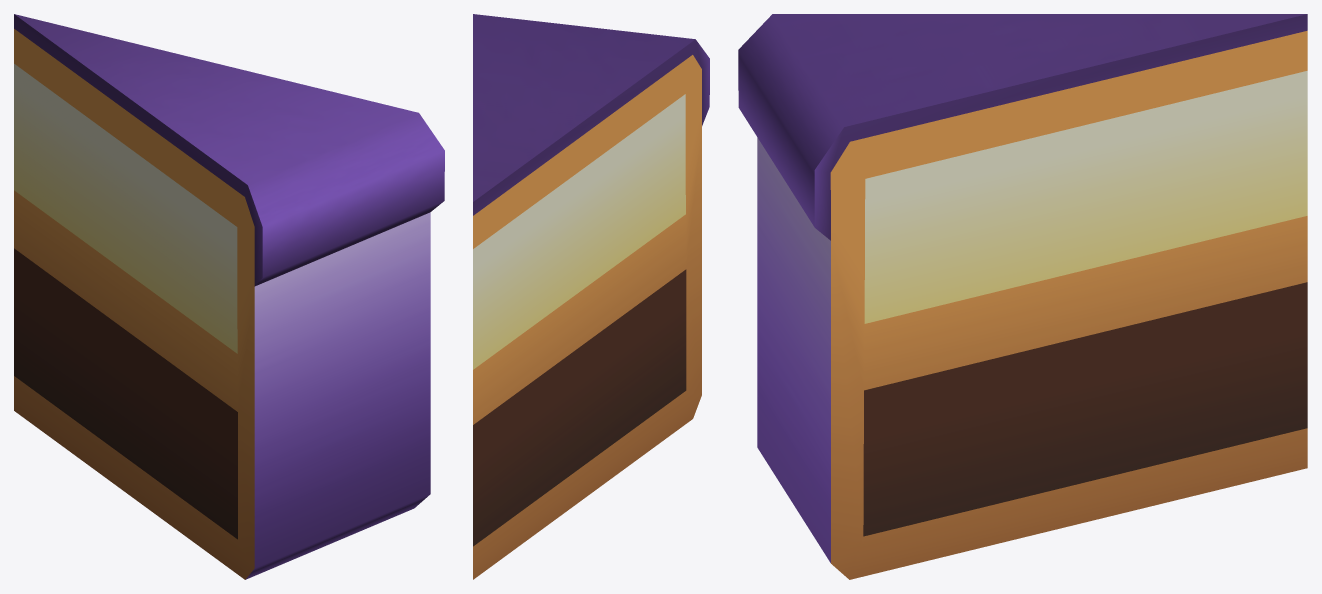
The model's file is m_CakeGlazed01_Slice01.fbx.
3 views of the same model, side by side, from view 1: azimuth 30°, elevation 25°; view 2: azimuth 150°, elevation 25°; view 3: azimuth 270°, elevation 25° (orthographic). The views are drawn at different scales.
Parts seen in each view (by area): view 1: m_CakeGlazed06_Slice01; view 2: m_CakeGlazed06_Slice01; view 3: m_CakeGlazed06_Slice01.
Boxes of the visible parts, x1,y1,x2,y2 form: m_CakeGlazed06_Slice01: (14, 14, 444, 579); m_CakeGlazed06_Slice01: (473, 14, 709, 579); m_CakeGlazed06_Slice01: (738, 14, 1307, 579).
Size of the model in its own units: 6.52 by 11.47 by 13.04.
